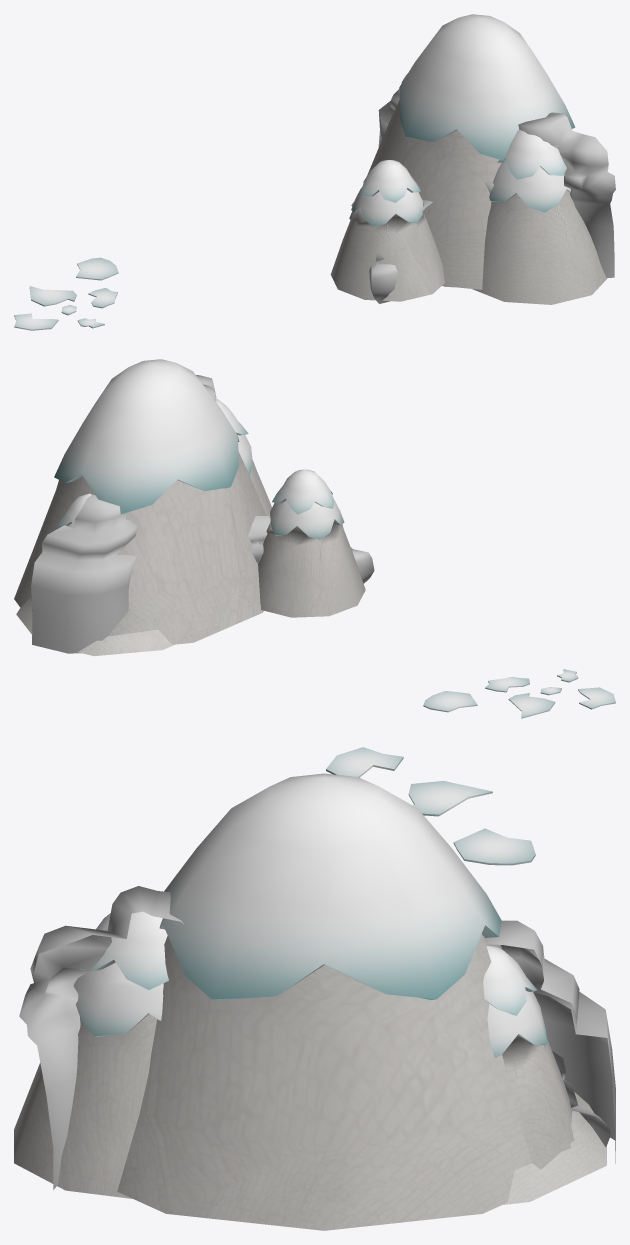
Rendered from rocks_ice.FBX.
The picture shows the model from 3 angles, top to bottom: view 1: azimuth 30°, elevation 25°; view 2: azimuth 150°, elevation 25°; view 3: azimuth 270°, elevation 25°; orthographic projection. The views are drawn at different scales.
Parts seen in each view (by area): view 1: BG_Rocks_3a, BG_Rocks_2a, BG_Rocks_1a, BG_Rocks_1, BG_Rocks_3, ice_01, ice_02, ice_05; view 2: BG_Rocks_3a, BG_Rocks_1, BG_Rocks_1a, BG_Rocks_2a, BG_Rocks_3, ice_01, ice_02, ice_05; view 3: BG_Rocks_3a, BG_Rocks_2a, BG_Rocks_1, BG_Rocks_1a, ice_01, ice_02, ice_05, BG_Rocks_2.
Boxes of the visible parts, box(x1,y1,x2,y2) form: BG_Rocks_3a: box(349, 14, 575, 289); BG_Rocks_2a: box(351, 130, 606, 304); BG_Rocks_1a: box(330, 160, 453, 301); BG_Rocks_1: box(378, 73, 615, 278); BG_Rocks_3: box(369, 199, 432, 303); ice_01: box(76, 257, 118, 280); ice_02: box(29, 286, 76, 306); ice_05: box(14, 313, 58, 330); BG_Rocks_3a: box(14, 359, 266, 644); BG_Rocks_1: box(31, 375, 216, 653); BG_Rocks_1a: box(32, 469, 365, 617); BG_Rocks_2a: box(16, 398, 271, 656); BG_Rocks_3: box(248, 516, 374, 583); ice_01: box(423, 691, 477, 712); ice_02: box(508, 693, 555, 718); ice_05: box(578, 687, 615, 709); BG_Rocks_3a: box(117, 773, 571, 1230); BG_Rocks_2a: box(14, 911, 606, 1204); BG_Rocks_1: box(19, 886, 615, 1189); BG_Rocks_1a: box(483, 945, 574, 1169); ice_01: box(453, 828, 535, 865); ice_02: box(408, 781, 492, 816); ice_05: box(326, 747, 403, 777); BG_Rocks_2: box(552, 1051, 610, 1146).
Bounding box in the file's own units: 369 × 135 × 199.
